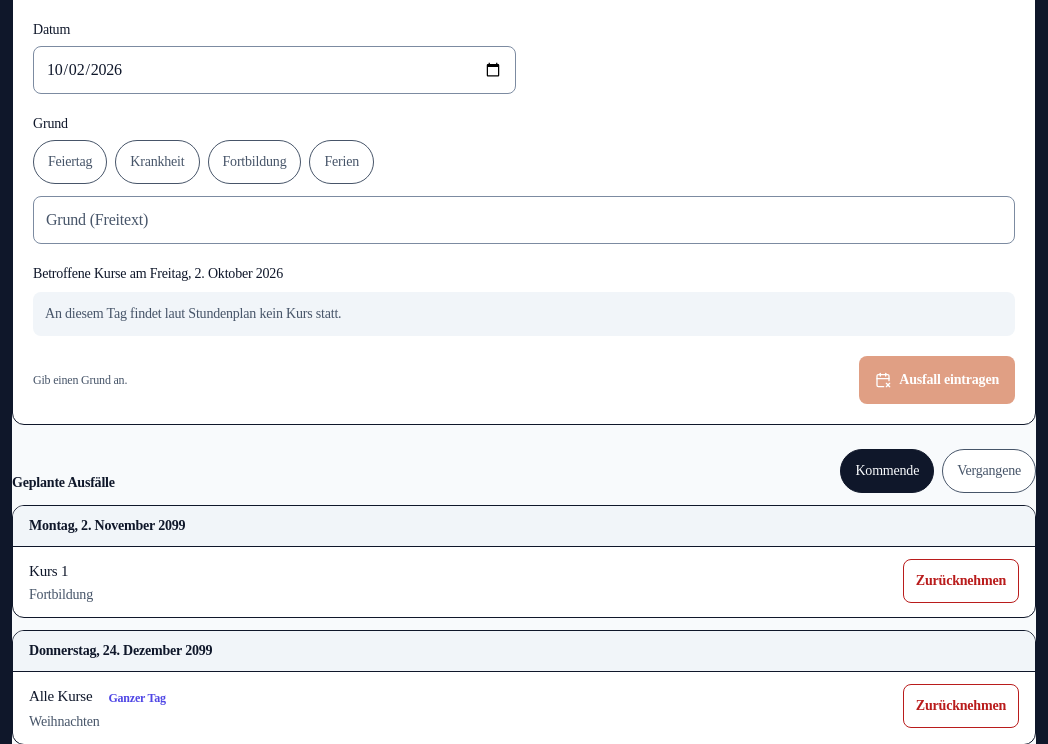
undoing a cancellation requires an explicit confirmation
The image size is (1048, 744).
(page scrolled)
Check: the text "Alle Kurse" is shown, box [29,688,92,704]
Click the button with aria-label "Ausfall zurücknehmen": (961, 581) [903,559,1019,603]
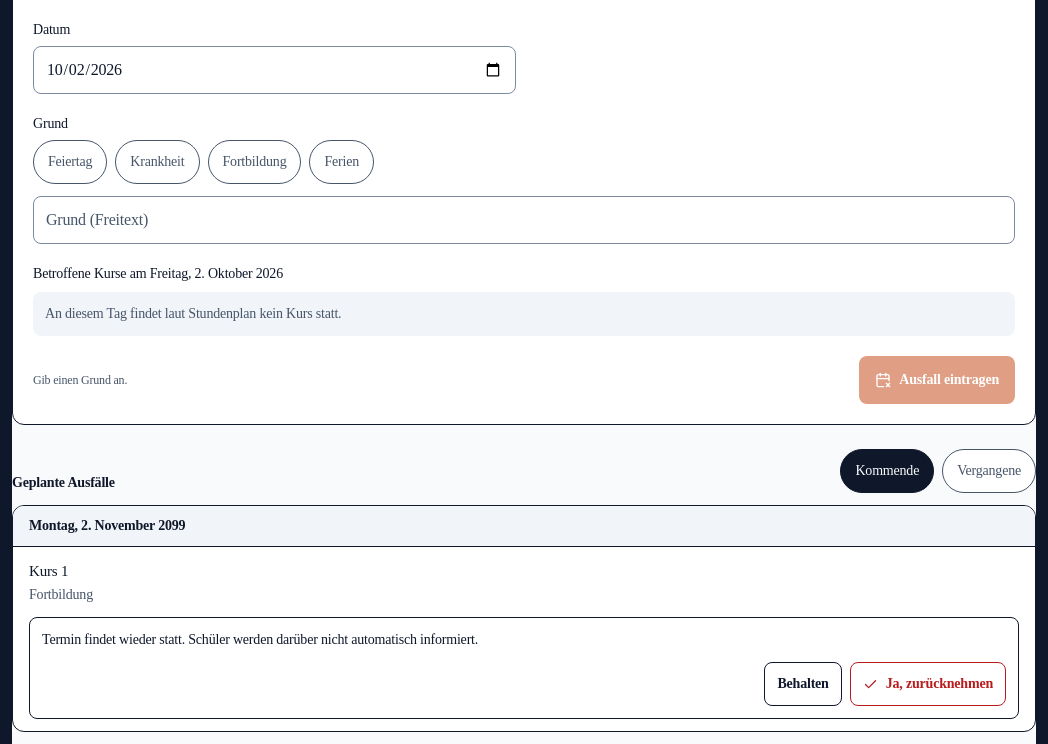
Click the button "Behalten": (803, 684) [764,662,842,706]
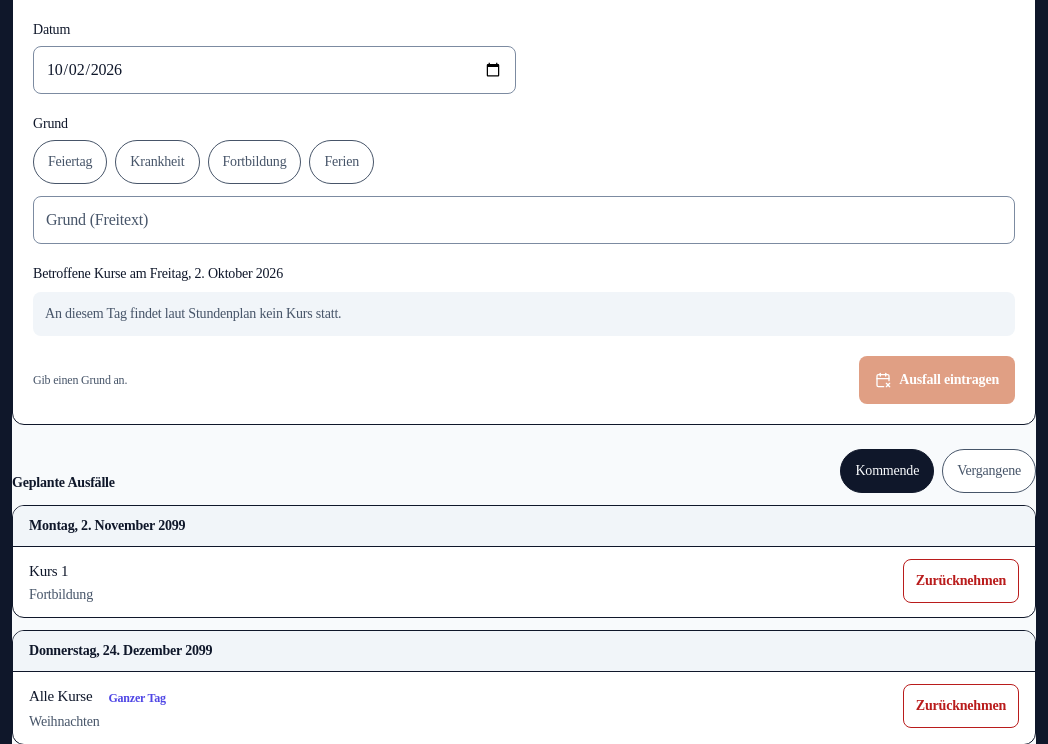
Click the button with aria-label "Ausfall zurücknehmen": (961, 581) [903,559,1019,603]
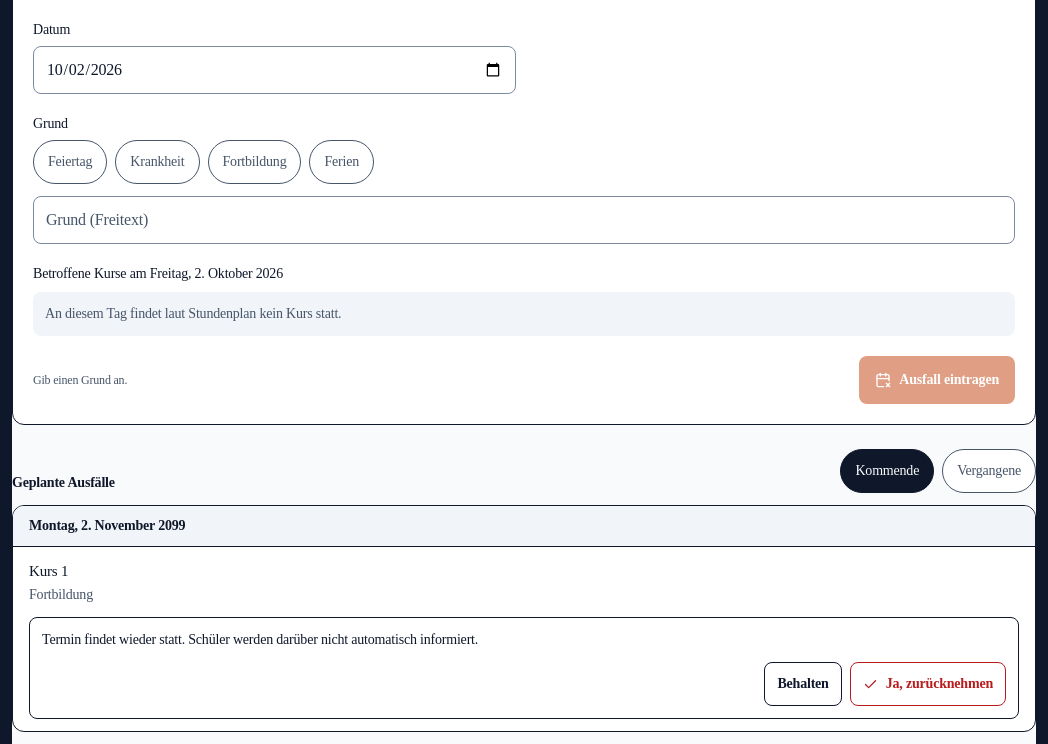
Click the button "Ja, zurücknehmen": (928, 684) [850,662,1006,706]
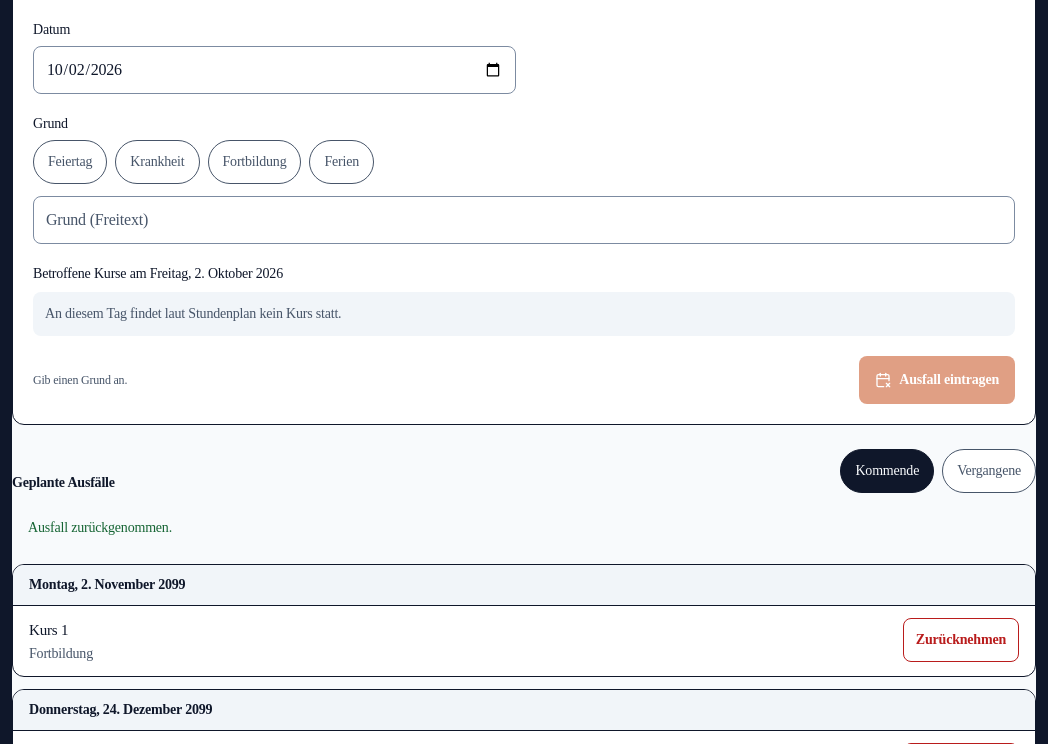
Check: the message reads "Ausfall zurückgenommen.", box [28,520,172,535]
